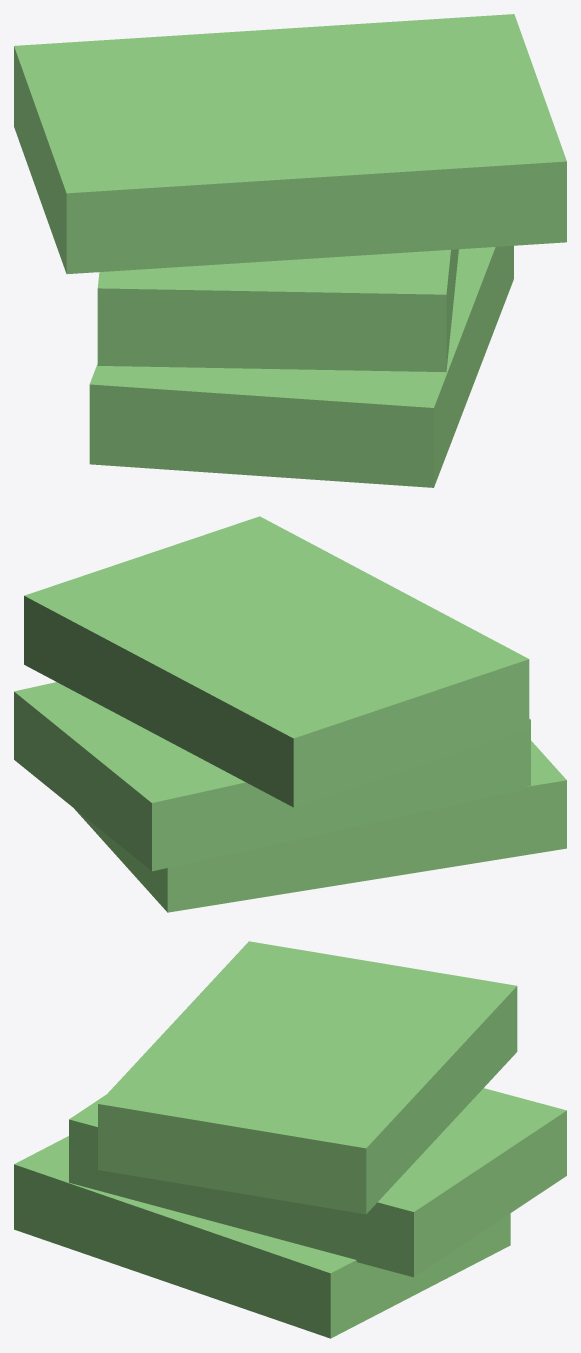
File: Book_Pile_02B_Lod0.fbx
3 renders of one model, top to bottom at view 1: azimuth 30°, elevation 25°; view 2: azimuth 150°, elevation 25°; view 3: azimuth 270°, elevation 25°, orthographic. The views are drawn at different scales.
Visible parts, largest first — view 1: Book_Pile_02B_Lod0; view 2: Book_Pile_02B_Lod0; view 3: Book_Pile_02B_Lod0.
Part boxes in pixels (left/top/right/bottom): Book_Pile_02B_Lod0: left=14, top=14, right=566, bottom=487; Book_Pile_02B_Lod0: left=14, top=516, right=566, bottom=912; Book_Pile_02B_Lod0: left=14, top=941, right=566, bottom=1338.
Bounding box in the file's own units: 30.96 × 13.6 × 34.23.
